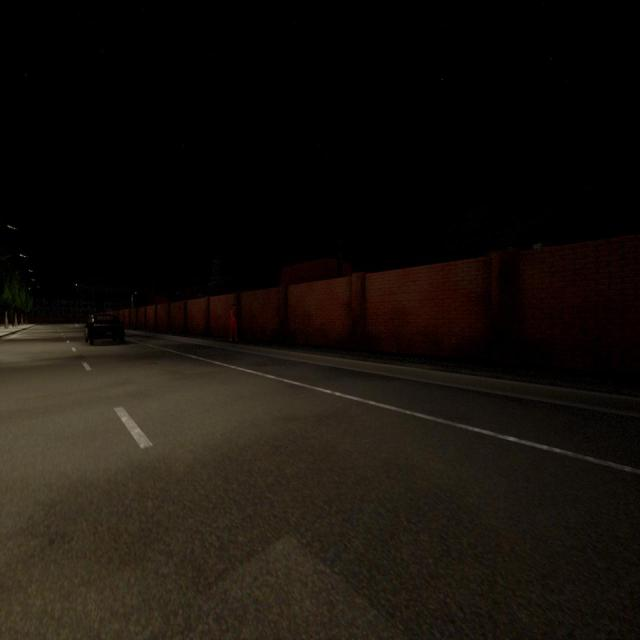Pedestrian: (229, 304, 237, 342)
Vehicle: (85, 315, 124, 344)
